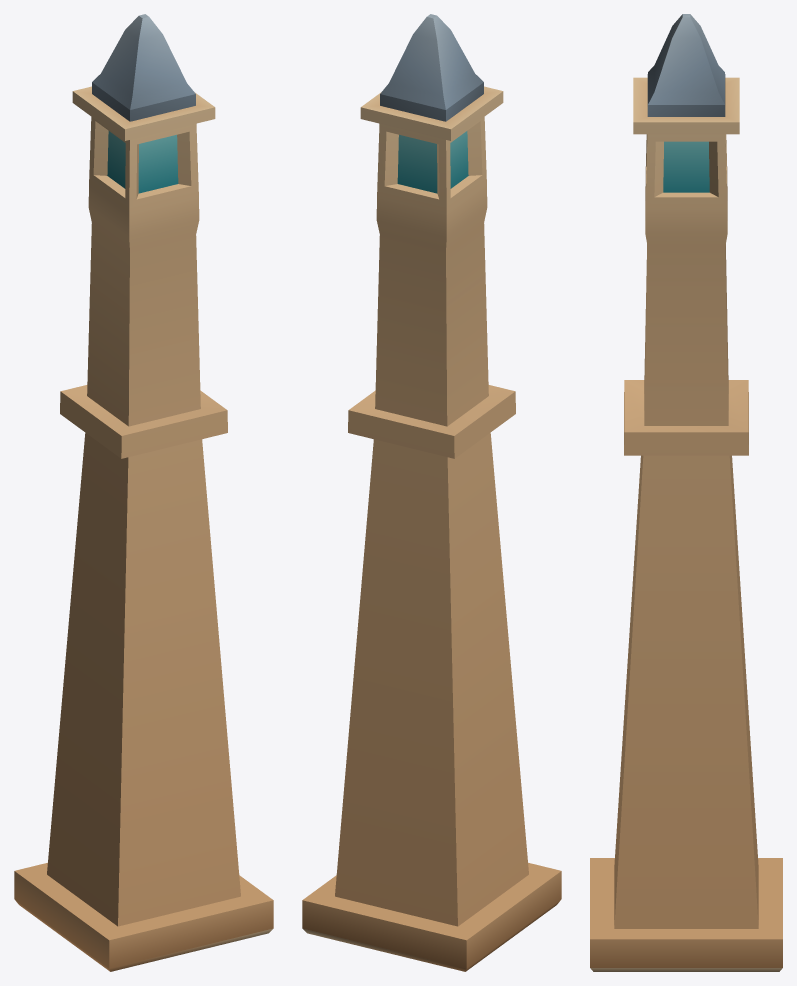
File: LightTower02.fbx
The picture shows the model from 3 angles, left to right: view 1: azimuth 30°, elevation 25°; view 2: azimuth 150°, elevation 25°; view 3: azimuth 270°, elevation 25°; orthographic projection.
Parts seen in each view (by area): view 1: LightTower02; view 2: LightTower02; view 3: LightTower02.
Boxes of the visible parts, box(x1,y1,x2,y2) form: LightTower02: box(14, 14, 273, 971); LightTower02: box(302, 14, 561, 971); LightTower02: box(590, 14, 782, 971).
Size of the model in its own units: 0.7325 by 3.84 by 0.7325.
Materials: 1 (1 with a texture image).
